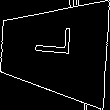L_W: (32, 33, 76, 68)
